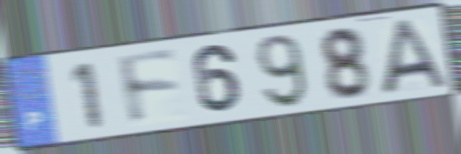1: (69, 60, 108, 130)
6: (191, 42, 244, 118)
8: (321, 24, 373, 102)
9: (252, 32, 311, 110)
A: (380, 16, 449, 97)
F: (114, 47, 183, 130)
